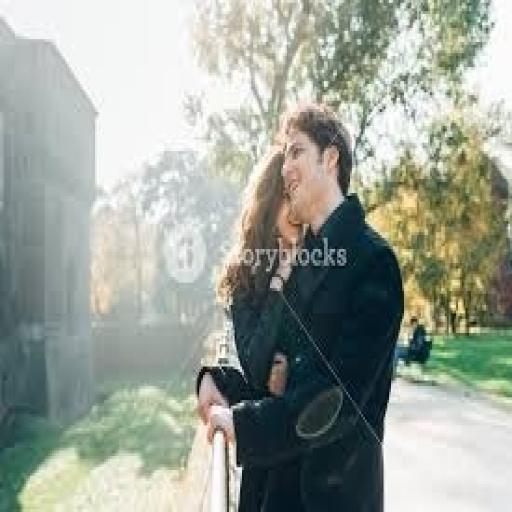hugging: (196, 101, 408, 509)
